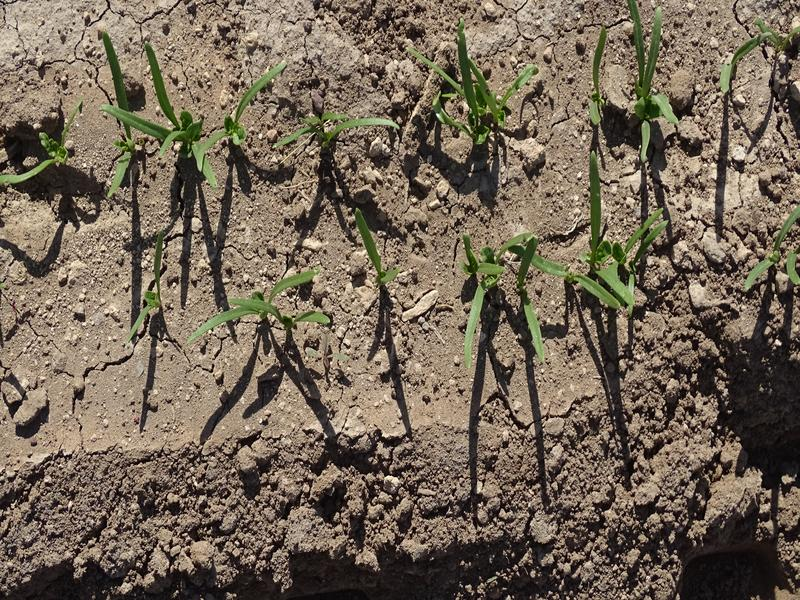Espinaca: (446, 204, 672, 354), (93, 58, 288, 194), (584, 7, 678, 153), (425, 37, 523, 146), (185, 268, 329, 337), (118, 233, 173, 342), (720, 15, 781, 98), (348, 206, 405, 290), (742, 208, 800, 290), (266, 115, 405, 147), (1, 140, 64, 185)
